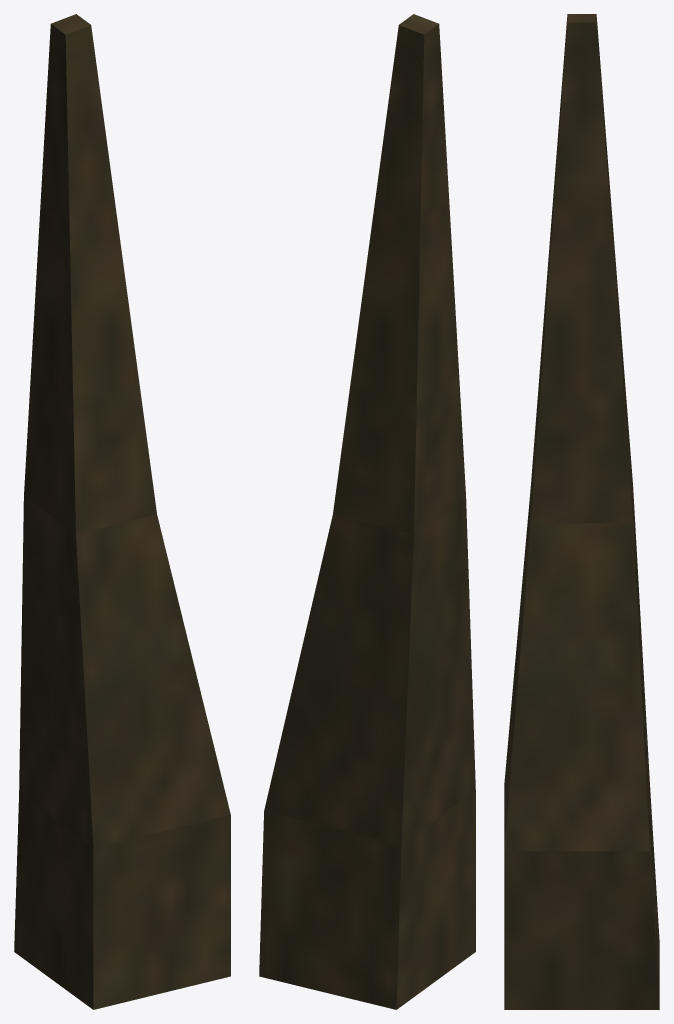
File: wooden_spike_large_2.obj
3 renders of one model, left to right at view 1: azimuth 30°, elevation 25°; view 2: azimuth 150°, elevation 25°; view 3: azimuth 270°, elevation 25°, orthographic.
Visible parts, largest first — view 1: cuboid; view 2: cuboid; view 3: cuboid.
Part boxes in pixels (x1,y1,x2,y2): cuboid: (14, 14, 230, 1009); cuboid: (259, 14, 475, 1009); cuboid: (504, 14, 659, 1009).
Size of the model in its own units: 0.5141 by 3.32 by 0.5.
